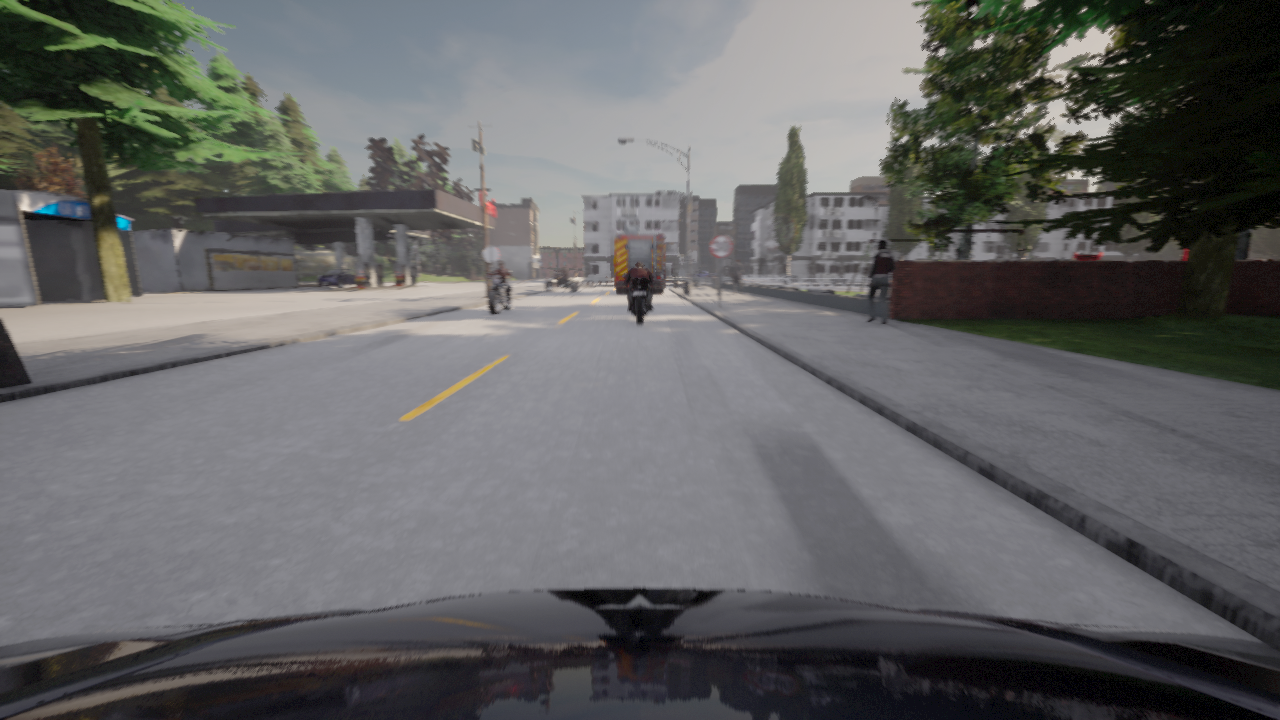cyclist: (0, 588, 1279, 719), (615, 226, 664, 293), (623, 274, 655, 324), (486, 271, 513, 314), (544, 269, 578, 291), (317, 268, 356, 287), (691, 271, 708, 276), (709, 272, 718, 276)
pedestrian: (866, 239, 895, 324), (730, 259, 742, 294)
